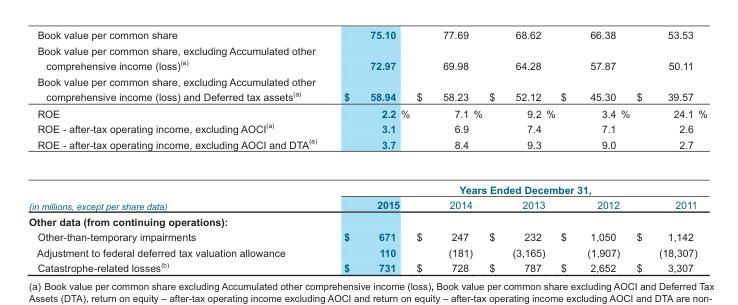table: (28, 29, 706, 273)
table column: (28, 29, 329, 273), (329, 29, 412, 273), (557, 29, 632, 273), (632, 29, 706, 273), (412, 29, 485, 273), (485, 29, 557, 273)
table column header: (28, 29, 706, 42)
table projected row header: (28, 213, 706, 229), (28, 42, 706, 57), (28, 73, 706, 88)
table row: (28, 135, 706, 166), (28, 166, 706, 196), (28, 196, 706, 213), (28, 57, 706, 73), (28, 88, 706, 104), (28, 119, 706, 135), (28, 213, 706, 229), (28, 42, 706, 57), (28, 73, 706, 88), (28, 104, 706, 119), (28, 229, 706, 244), (28, 244, 706, 259), (28, 259, 706, 273), (28, 29, 706, 42)
table spanning cell: (329, 166, 706, 196)
